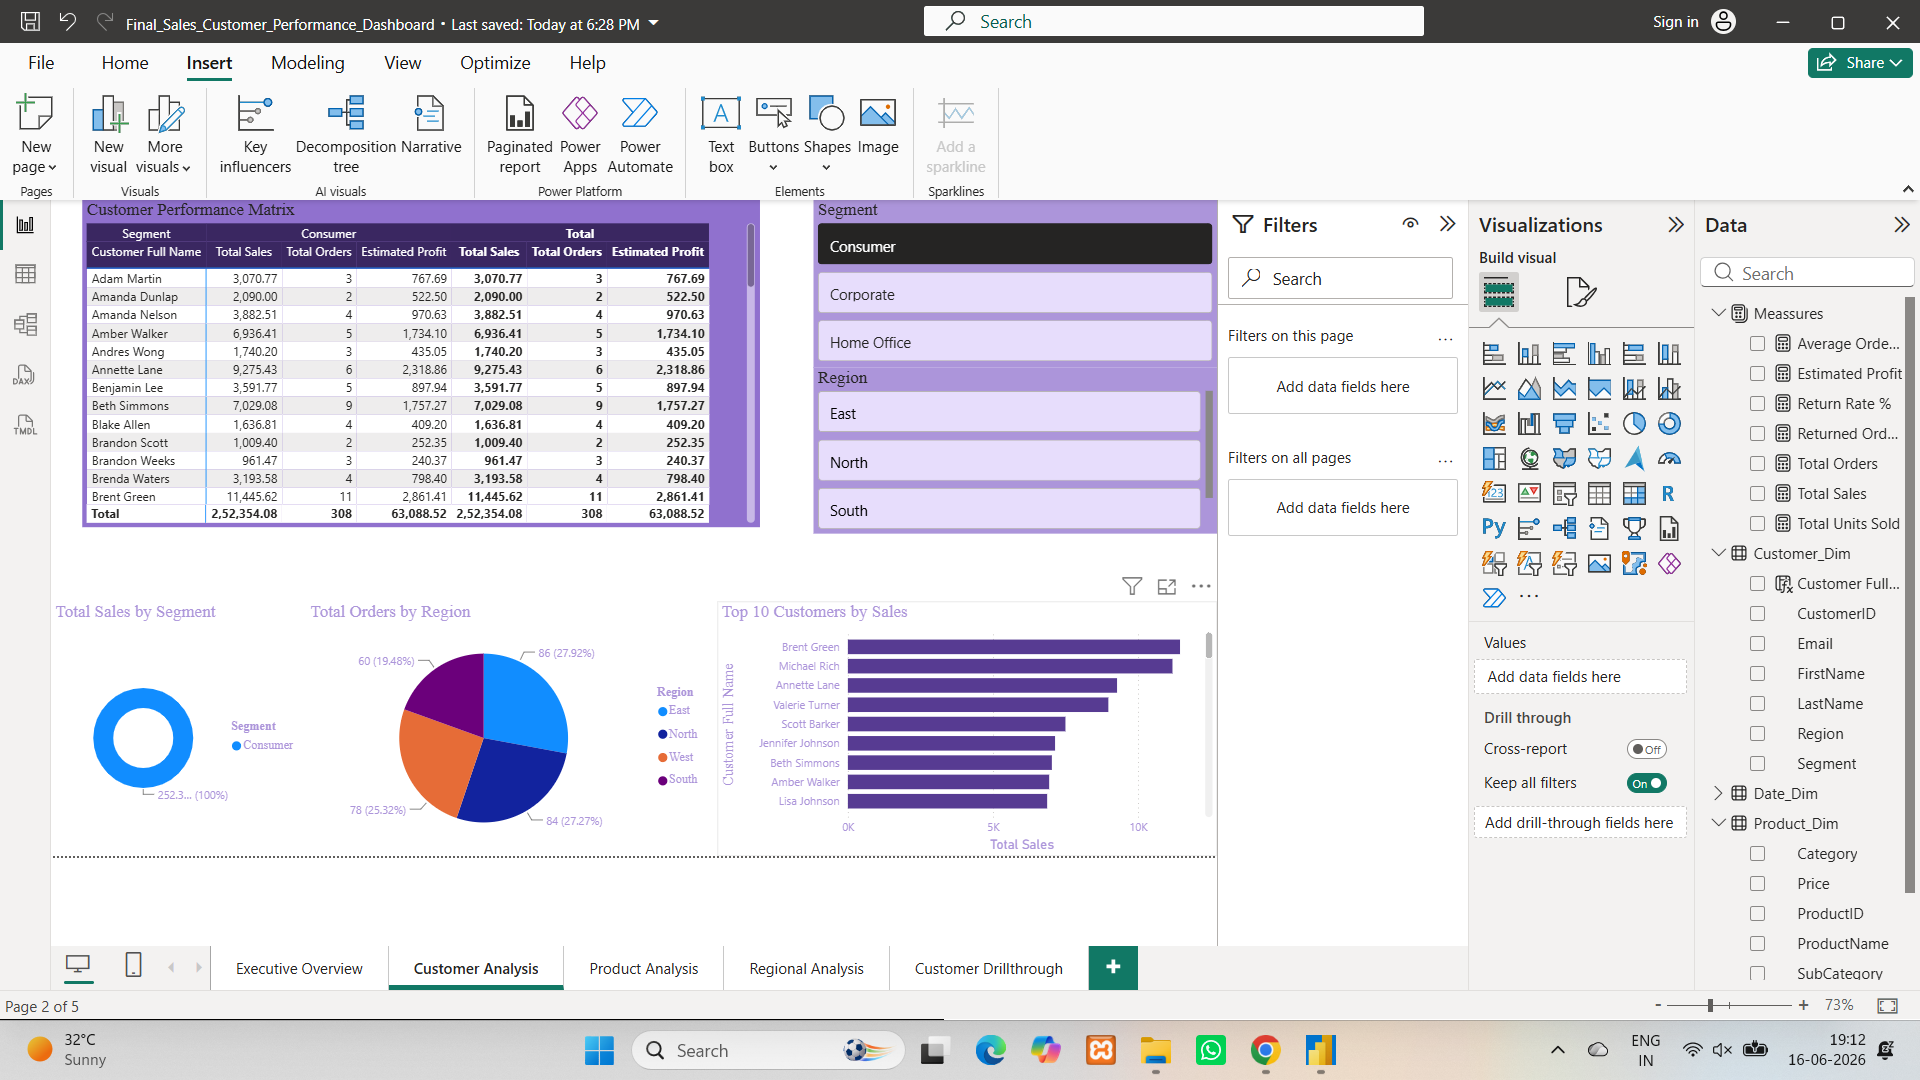

The page's visual inventory and layout, read from the dashboard file:
{"tool":"powerbi","page":{"name":"Customer Analysis","canvas":[1280,720],"ordinal":1},"visuals":[{"type":"donutChart","fields":{"Category":["Customer_Dim.Segment"],"Y":["Meassures.Total Sales"]},"box":[0,440.5,279.9,279.9],"z":0},{"type":"clusteredBarChart","title":"Top 10 Customers by Sales","fields":{"Category":["Customer_Dim.Customer Full Name"],"Y":["Meassures.Total Sales"]},"box":[731.4,440.5,548.9,279.9],"z":1000},{"type":"pivotTable","title":"Customer Performance Matrix","fields":{"Rows":["Customer_Dim.Customer Full Name"],"Columns":["Customer_Dim.Segment"],"Values":["Meassures.Total Sales","Meassures.Total Orders","Meassures.Estimated Profit"]},"box":[34.3,0,743.7,359.5],"z":2000},{"type":"pieChart","fields":{"Category":["Customer_Dim.Region"],"Y":["Meassures.Total Orders"]},"box":[279.9,440.5,451.5,279.9],"z":3000},{"type":"advancedSlicerVisual","fields":{"Values":["Customer_Dim.Region"]},"box":[837.1,183.9,443.2,182.5],"z":4000},{"type":"advancedSlicerVisual","fields":{"Values":["Customer_Dim.Segment"]},"box":[837.1,0,443.2,183.9],"z":5000}]}

Visuals, with their boxes on the page's 1280x720 design canvas (x1, y1, x2, y2). These are canvas units, not pixel positions in the 1920x1080 screenshot, which may show the page scaled, cropped or inside an application window:
donutChart - Customer_Dim.Segment x Meassures.Total Sales: [0, 440, 280, 720]
"Top 10 Customers by Sales" clusteredBarChart: [731, 440, 1280, 720]
"Customer Performance Matrix" pivotTable: [34, 0, 778, 360]
pieChart - Customer_Dim.Region x Meassures.Total Orders: [280, 440, 731, 720]
advancedSlicerVisual - Customer_Dim.Region: [837, 184, 1280, 366]
advancedSlicerVisual - Customer_Dim.Segment: [837, 0, 1280, 184]
